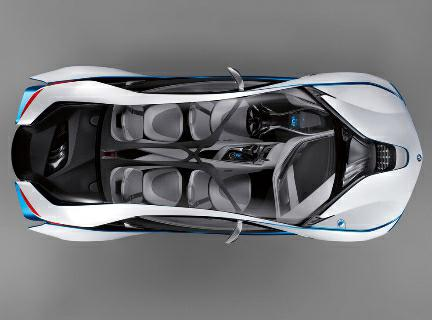宝马-EfficientDynamics: (10, 65, 425, 247)
